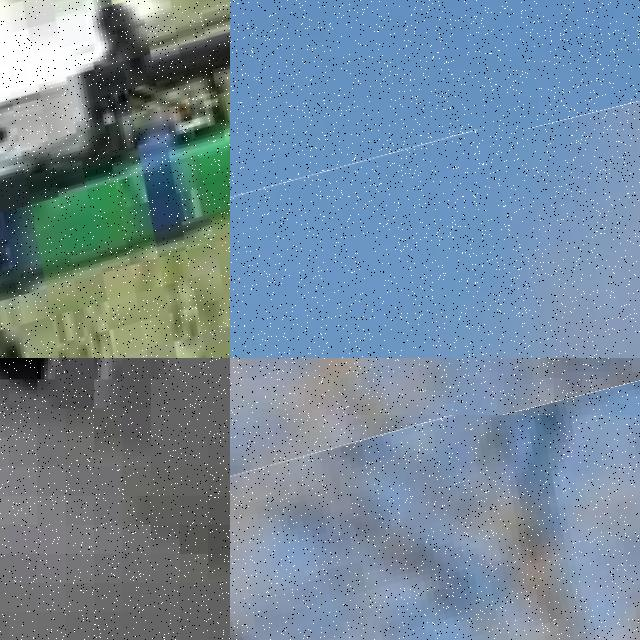drone: (230, 129, 640, 358), (230, 415, 640, 640), (0, 0, 230, 358)
